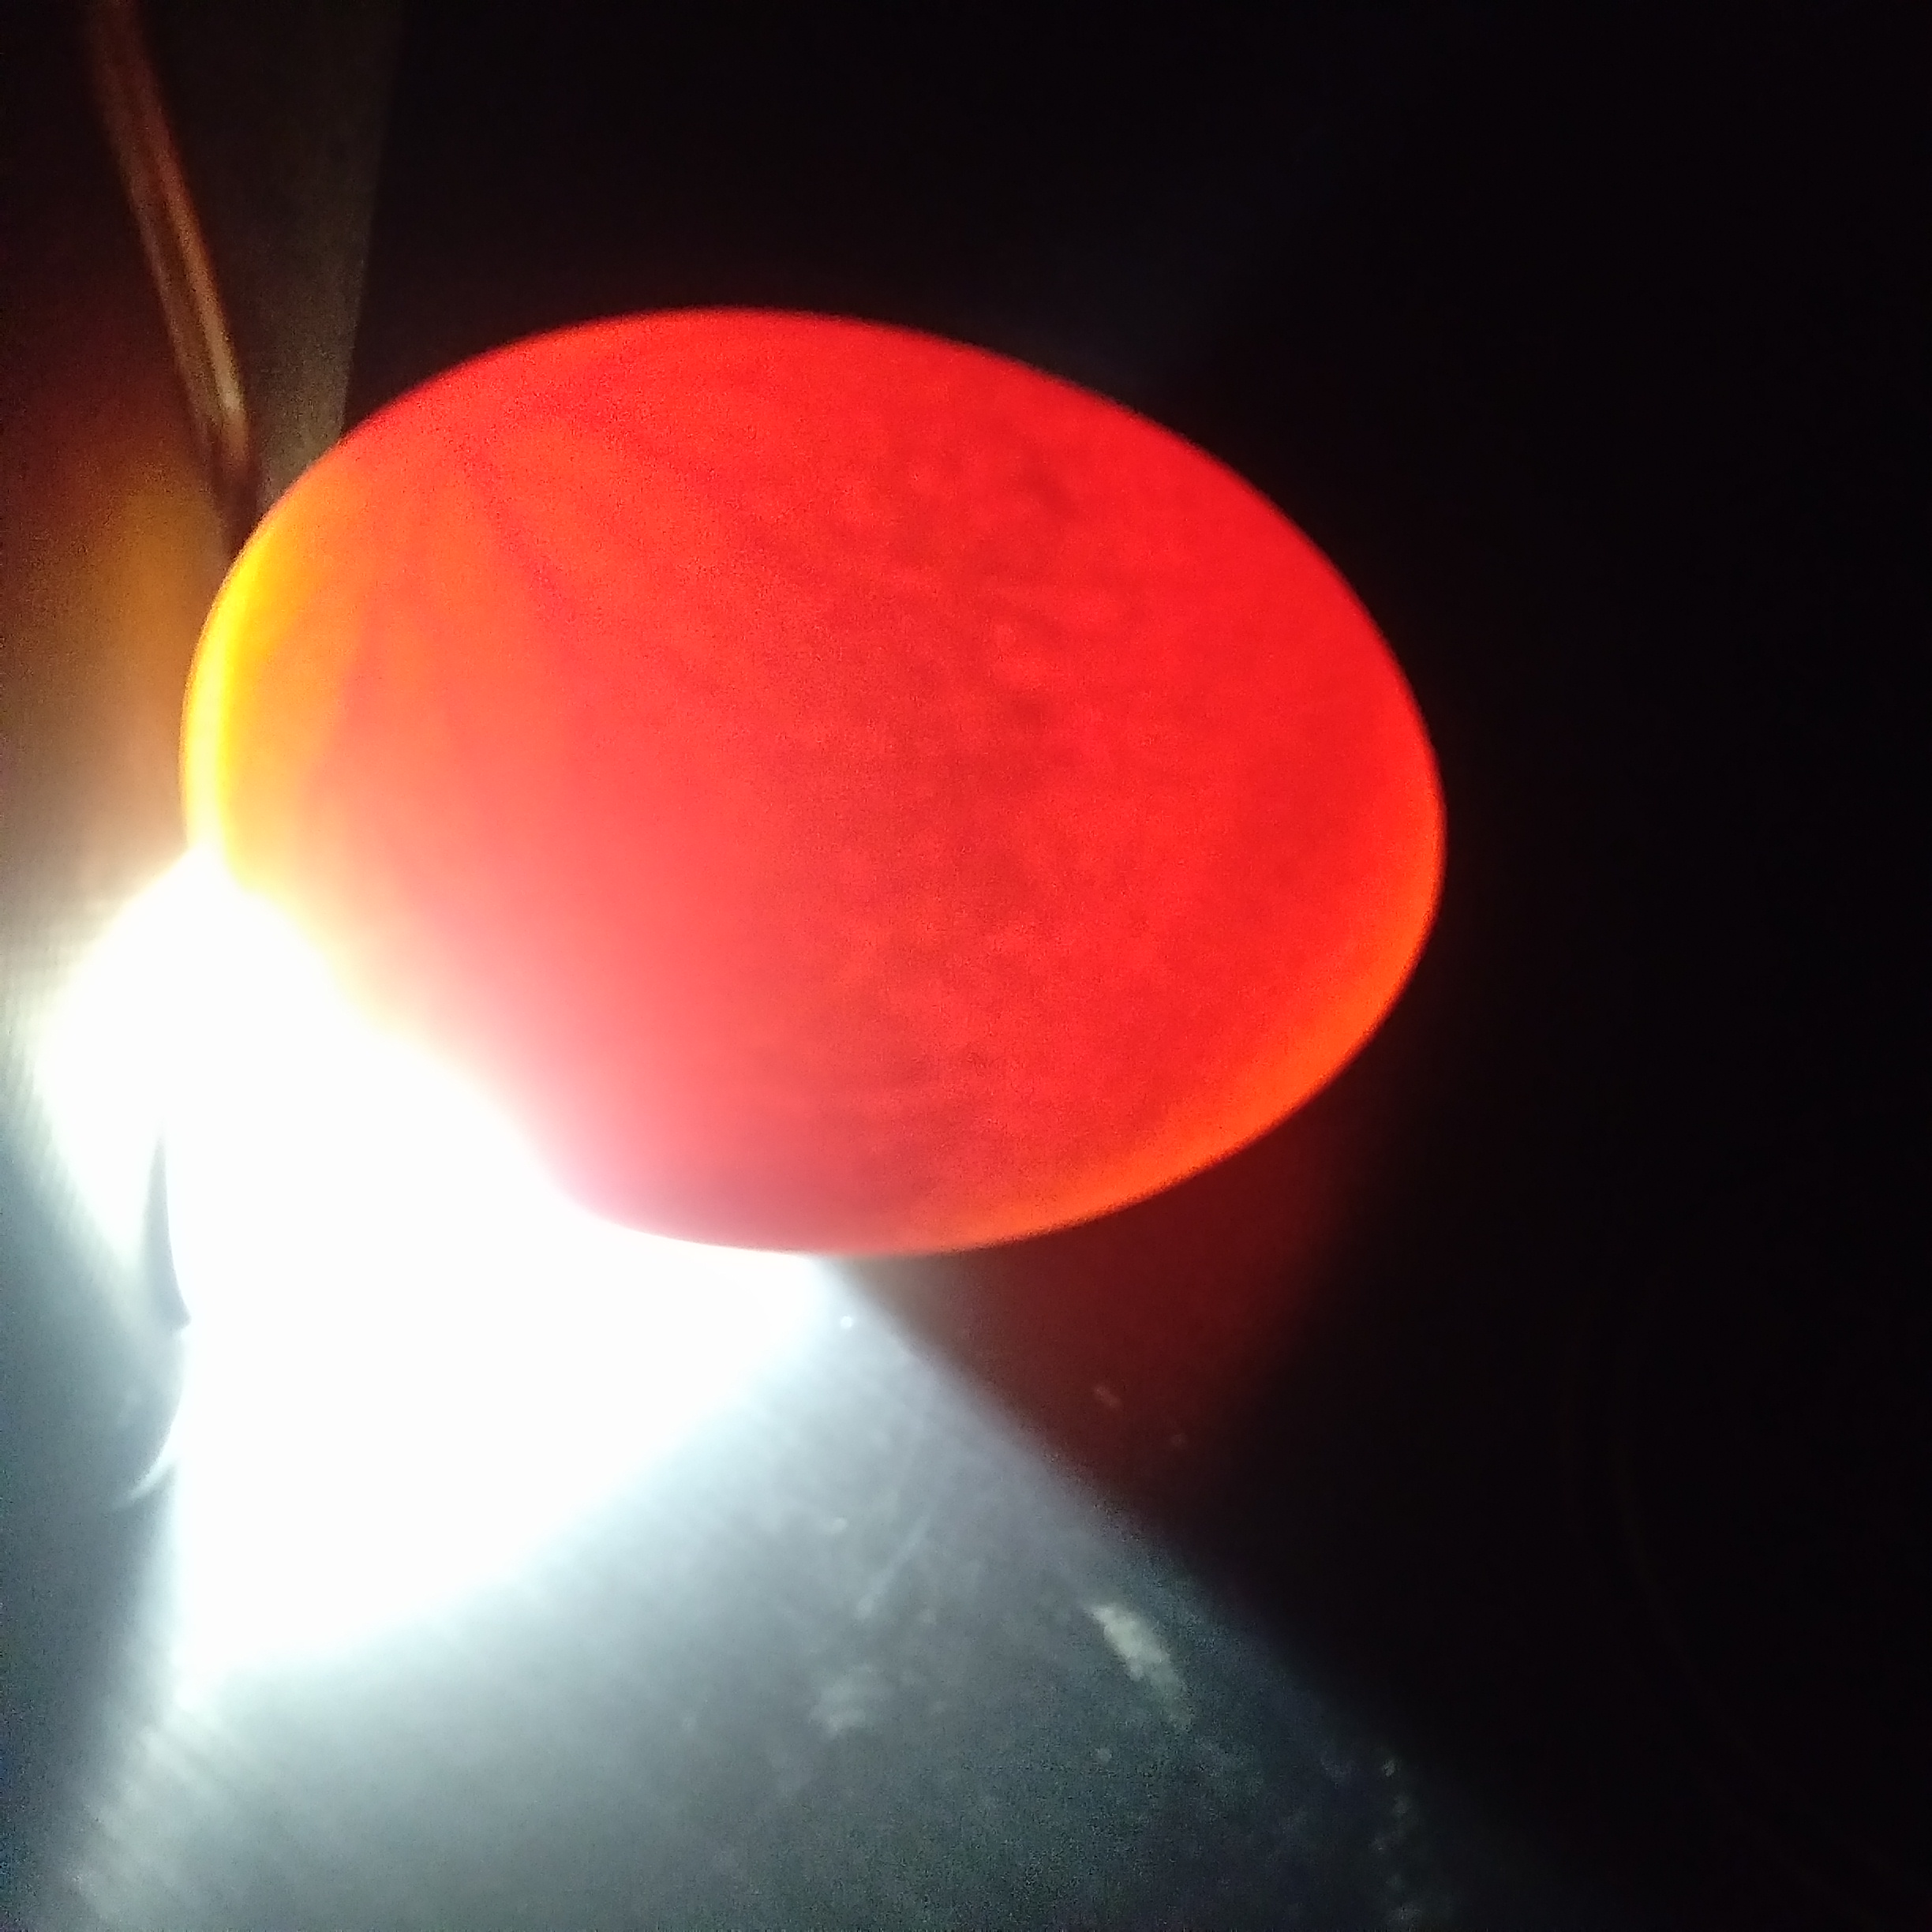bloodcell: (301, 490, 694, 778)
